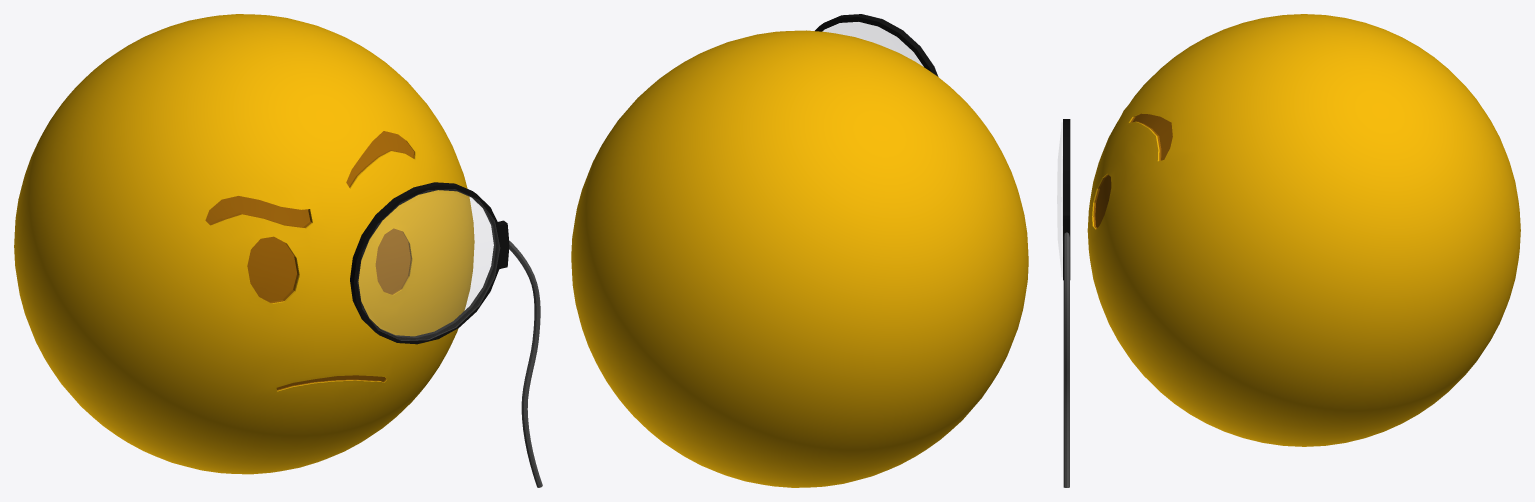
The model's file is monocle_emoji.glb.
The picture shows the model from 3 angles, left to right: view 1: azimuth 30°, elevation 25°; view 2: azimuth 150°, elevation 25°; view 3: azimuth 270°, elevation 25°; orthographic projection. The views are drawn at different scales.
Parts seen in each view (by area): view 1: Apple Face with Monocle; view 2: Apple Face with Monocle; view 3: Apple Face with Monocle.
Part boxes in pixels (x1,y1,x2,y2): Apple Face with Monocle: (14,14,542,487); Apple Face with Monocle: (571,14,1028,487); Apple Face with Monocle: (1057,14,1520,487).
Size of the model in its own units: 0.0243 by 0.0243 by 0.0261.
